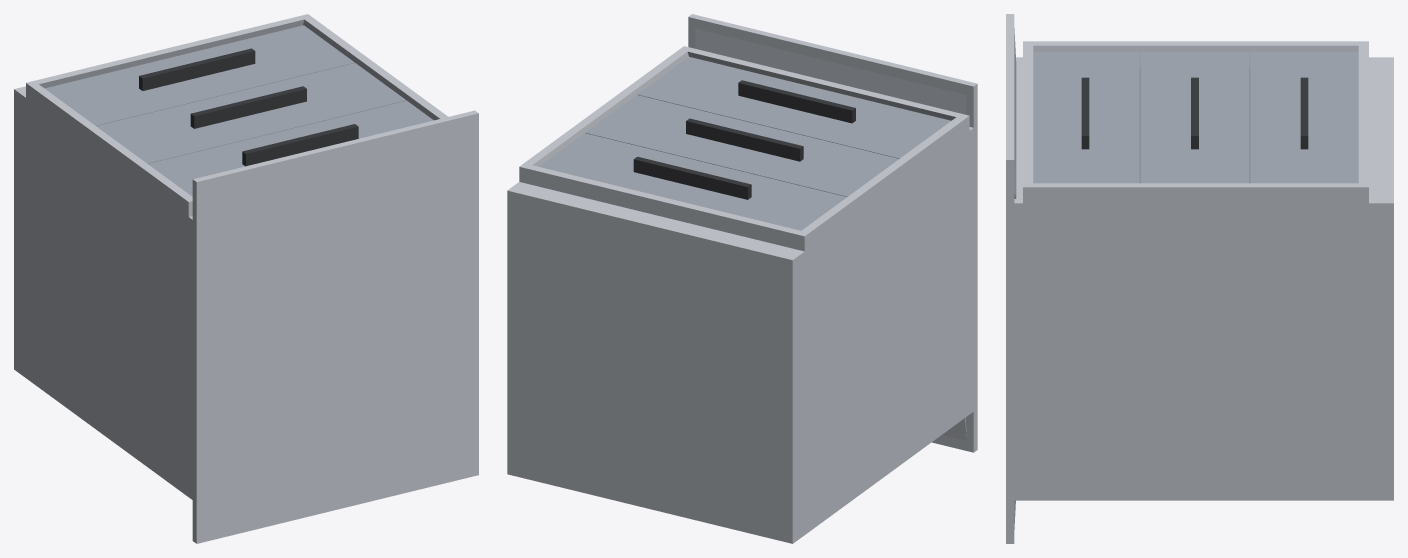
File: counter_counter_3_shelves.obj
3 renders of one model, left to right at view 1: azimuth 30°, elevation 25°; view 2: azimuth 150°, elevation 25°; view 3: azimuth 270°, elevation 25°, orthographic. The views are drawn at different scales.
Visible parts, largest first — view 1: Cube.432, Cube.435, Cube.434, Cube.433; view 2: Cube.432, Cube.434, Cube.433, Cube.435; view 3: Cube.432, Cube.434, Cube.435, Cube.433.
Boxes of the visible parts, box(x1,y1,x2,y2) form: Cube.432: box(14, 14, 478, 543); Cube.435: box(45, 25, 354, 125); Cube.434: box(96, 63, 406, 163); Cube.433: box(148, 101, 433, 196); Cube.432: box(507, 14, 977, 543); Cube.434: box(585, 95, 898, 196); Cube.433: box(637, 57, 951, 158); Cube.435: box(539, 133, 846, 230); Cube.432: box(1006, 14, 1393, 543); Cube.434: box(1140, 51, 1249, 183); Cube.435: box(1250, 51, 1358, 183); Cube.433: box(1033, 51, 1139, 183).
Bounding box in the file's own units: 0.6202 × 0.7599 × 0.6957.
1 material, 1 textured.
